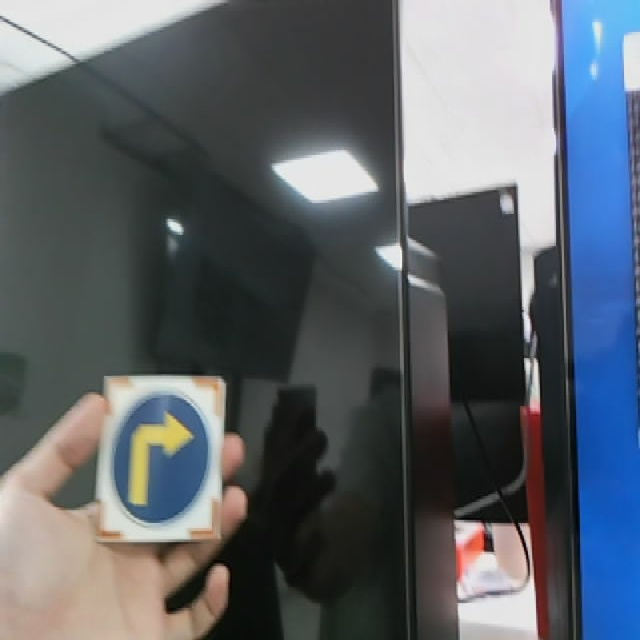right: (94, 377, 222, 541)
